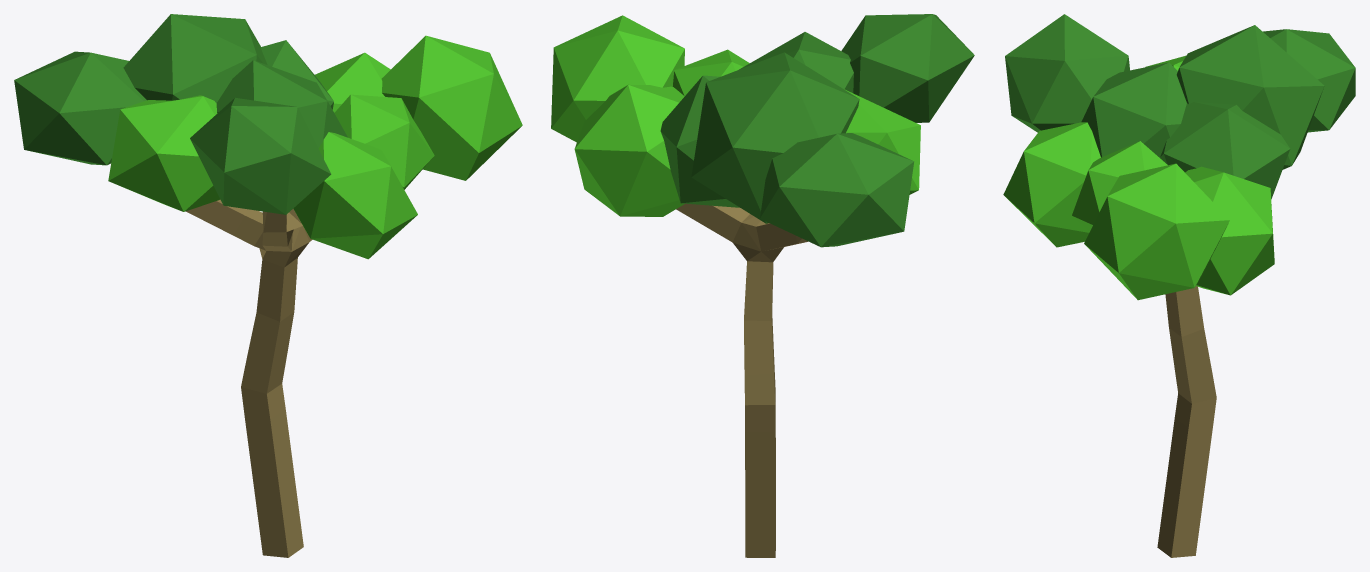
The model's file is oakTree2.gltf.
The picture shows the model from 3 angles, left to right: view 1: azimuth 30°, elevation 25°; view 2: azimuth 150°, elevation 25°; view 3: azimuth 270°, elevation 25°; orthographic projection. The views are drawn at different scales.
Parts seen in each view (by area): view 1: Cube, Icosphere.005, Icosphere.002, Icosphere, Icosphere.003, Icosphere.001, Icosphere.008, Icosphere.009, Icosphere.004, Icosphere.006, Icosphere.007; view 2: Icosphere.008, Icosphere, Cube, Icosphere.006, Icosphere.002, Icosphere.005, Icosphere.007, Icosphere.001, Icosphere.004, Icosphere.009; view 3: Icosphere.005, Cube, Icosphere.008, Icosphere.002, Icosphere.003, Icosphere.007, Icosphere.004, Icosphere.006, Icosphere, Icosphere.009.
Boxes of the visible parts, x1,y1,x2,y2 form: Cube: (186,199,312,557); Icosphere.005: (381,35,522,180); Icosphere.002: (190,97,331,214); Icosphere: (14,51,146,165); Icosphere.003: (293,132,417,259); Icosphere.001: (108,95,220,211); Icosphere.008: (123,14,267,102); Icosphere.009: (334,94,434,189); Icosphere.004: (216,60,347,148); Icosphere.006: (315,52,390,112); Icosphere.007: (260,40,333,109); Icosphere.008: (691,52,859,223); Icosphere: (760,133,914,247); Cube: (676,203,808,557); Icosphere.006: (574,84,684,216); Icosphere.002: (841,14,974,122); Icosphere.005: (551,15,684,142); Icosphere.007: (660,75,739,207); Icosphere.001: (844,89,920,194); Icosphere.004: (739,32,853,92); Icosphere.009: (672,49,749,95); Icosphere.005: (1084,163,1229,300); Cube: (1157,286,1216,557); Icosphere.008: (1176,25,1324,169); Icosphere.002: (1005,14,1129,132); Icosphere.003: (1003,122,1100,247); Icosphere.007: (1160,102,1290,198); Icosphere.004: (1081,62,1186,158); Icosphere.006: (1185,166,1274,295); Icosphere: (1263,29,1355,132); Icosphere.009: (1072,141,1167,230).
Bounding box in the file's own units: 6.65 × 8.16 × 5.25.
